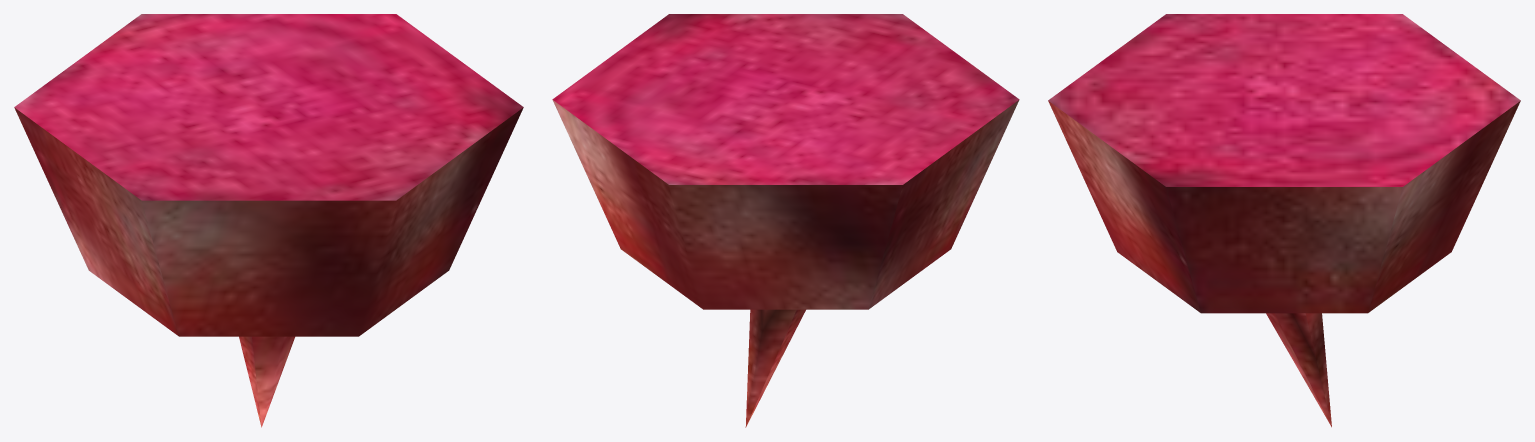
File: Beetroot_03.glb
The picture shows the model from 3 angles, left to right: view 1: azimuth 30°, elevation 25°; view 2: azimuth 150°, elevation 25°; view 3: azimuth 270°, elevation 25°; orthographic projection. The views are drawn at different scales.
Parts seen in each view (by area): view 1: Beetroot_03; view 2: Beetroot_03; view 3: Beetroot_03.
Boxes of the visible parts, left/top/right/bottom form: Beetroot_03: left=14, top=14, right=523, bottom=427; Beetroot_03: left=552, top=14, right=1019, bottom=427; Beetroot_03: left=1048, top=14, right=1520, bottom=427.
Bounding box in the file's own units: 0.1536 × 0.1321 × 0.1774.
Materials: 1 (1 with a texture image).
